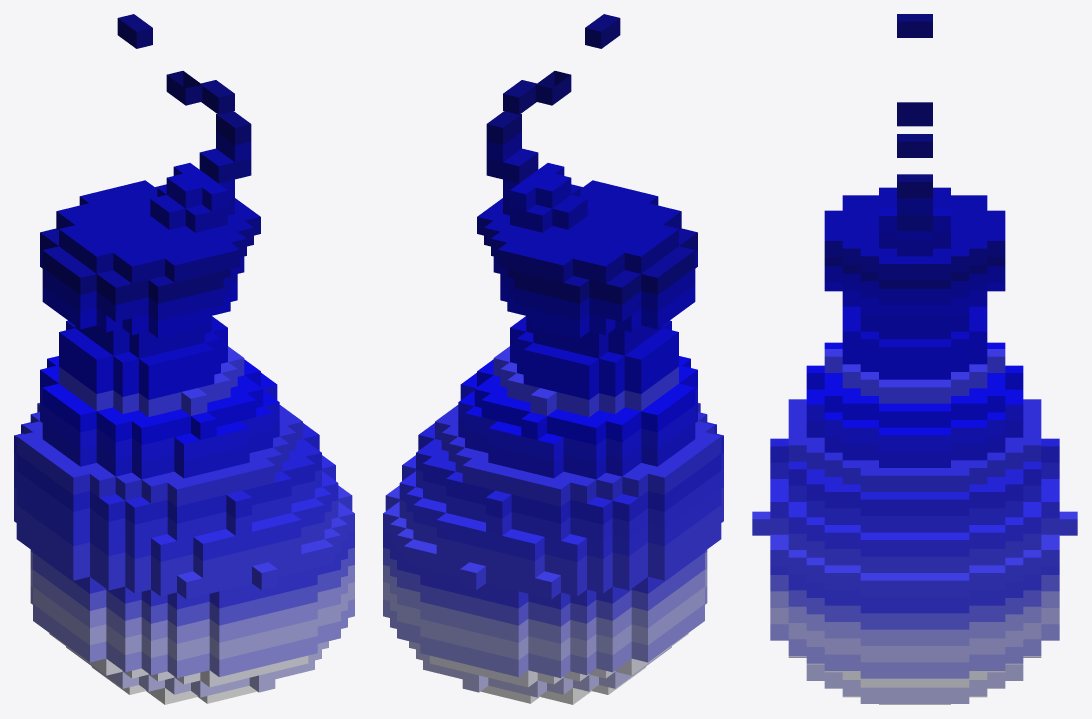
File: TBLUC0_flame.obj
3 views of the same model, side by side, from view 1: azimuth 30°, elevation 25°; view 2: azimuth 150°, elevation 25°; view 3: azimuth 270°, elevation 25° (orthographic). The views are drawn at different scales.
Visible parts, largest first — view 1: TorchFlame; view 2: TorchFlame; view 3: TorchFlame.
Part boxes in pixels (left/top/right/bottom): TorchFlame: left=14, top=14, right=354, bottom=704; TorchFlame: left=383, top=14, right=723, bottom=704; TorchFlame: left=752, top=14, right=1077, bottom=704.
Size of the model in its own units: 0.4474 by 1 by 0.4737.
1 material, 1 textured.
